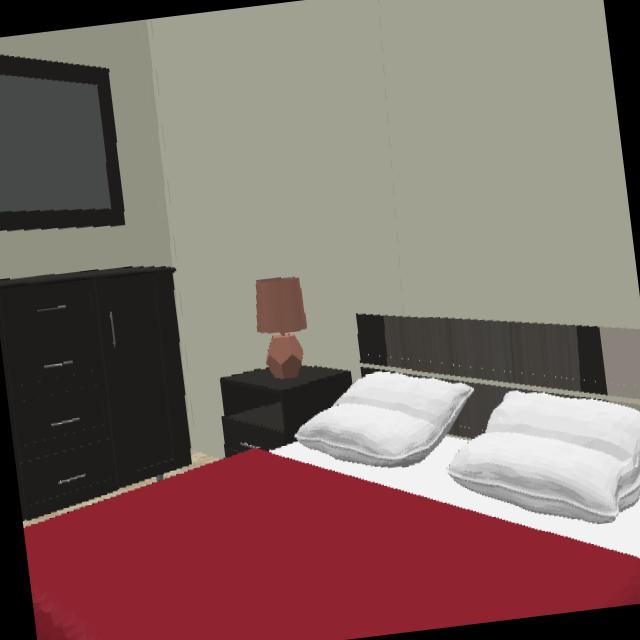bed: (23, 316, 640, 640)
cabinet: (0, 270, 188, 521)
lamp: (254, 276, 309, 383)
pillow: (271, 374, 640, 525)
